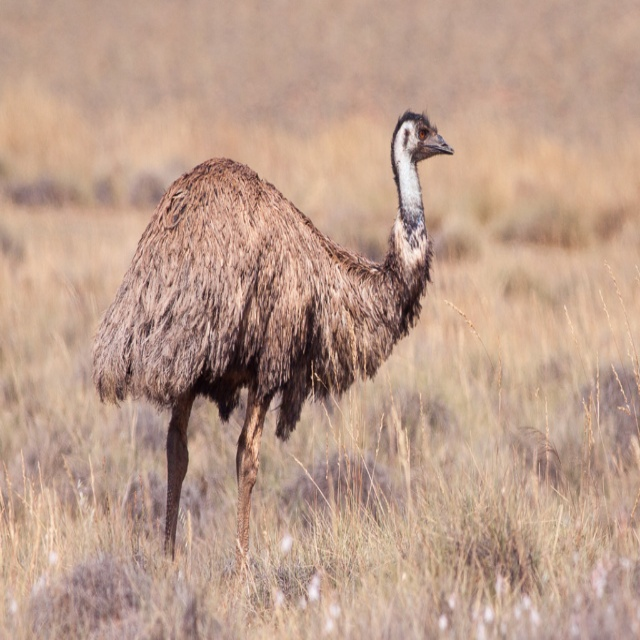Ostrich: (91, 108, 455, 580)
